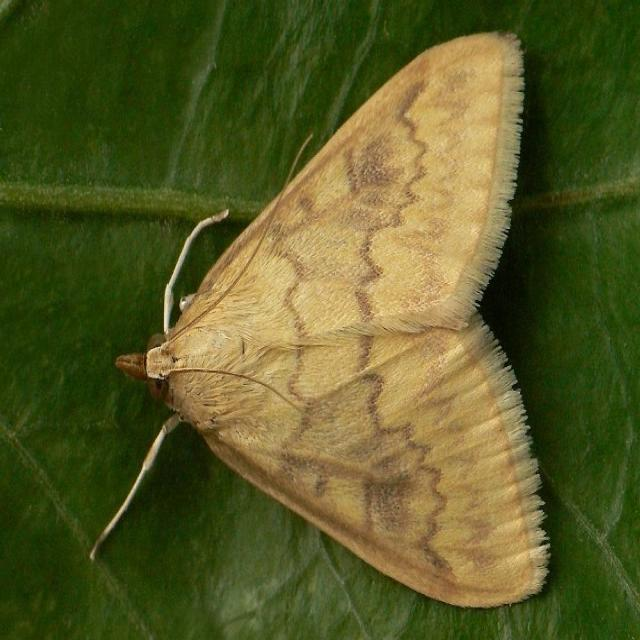cornborer-Adult-: (110, 24, 562, 620)
